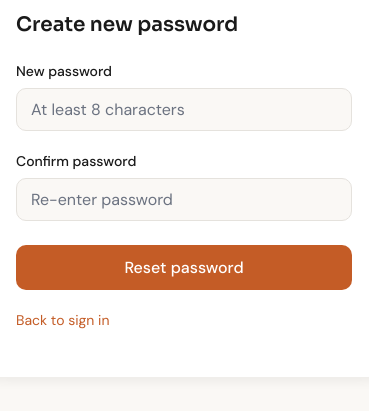
ResetPasswordForm › shows error from Supabase on failed reset
Type "newpassword123" into the password field labelled "New password" at {"x": 184, "y": 110}, box 16,88 -> 352,131
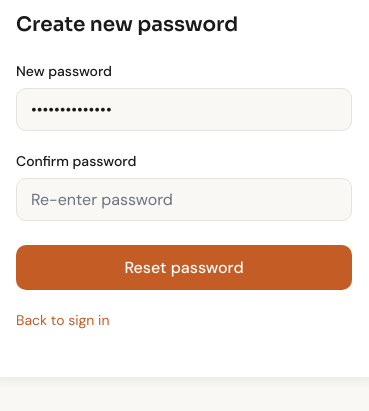
Type "newpassword123" into the password field labelled "Confirm password" at {"x": 184, "y": 200}, box 16,178 -> 352,221
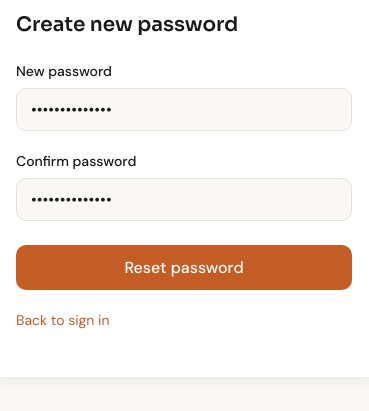
Click the button "Reset password" at {"x": 184, "y": 268}, box 16,245 -> 352,290
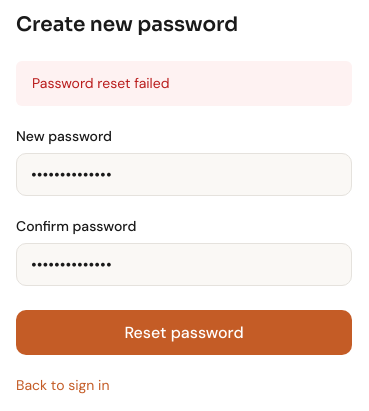
Expected: the text "Password reset failed" is shown, 16,61 -> 352,106
